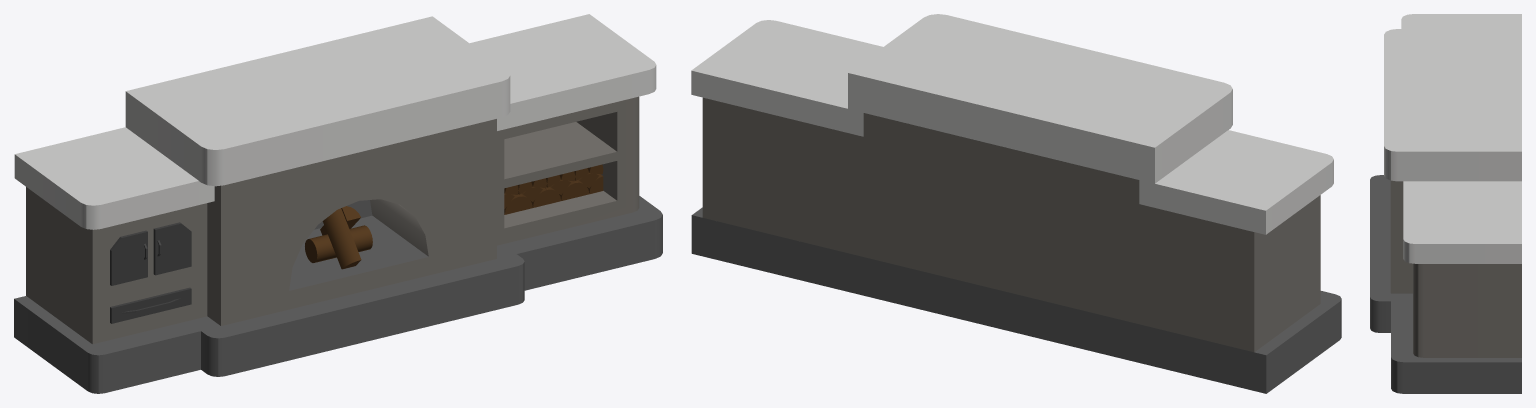
The model's file is StoveLeft.fbx.
The picture shows the model from 3 angles, left to right: view 1: azimuth 30°, elevation 25°; view 2: azimuth 150°, elevation 25°; view 3: azimuth 270°, elevation 25°; orthographic projection. The views are drawn at different scales.
Parts seen in each view (by area): view 1: Stove_02_no_image:pCube4, Stove_02_no_image:Fireplace, Stove_02_no_image:Base, Stove_02_no_image:Body, Stove_02_no_image:Storage, Stove_02_no_image:CabinetTop, Stove_02_no_image:StorageTop, Stove_02_no_image:RCabinet, Stove_02_no_image:LCabinet, Stove_02_no_image:BCabinet, Stove_02_no_image:pCylinder1, Stove_02_no_image:pCylinder2; view 2: Stove_02_no_image:Fireplace, Stove_02_no_image:pCube4, Stove_02_no_image:Base, Stove_02_no_image:Body, Stove_02_no_image:Storage, Stove_02_no_image:StorageTop, Stove_02_no_image:CabinetTop; view 3: Stove_02_no_image:pCube4, Stove_02_no_image:Storage, Stove_02_no_image:StorageTop, Stove_02_no_image:Base, Stove_02_no_image:Fireplace, Stove_02_no_image:CabinetTop.
Boxes of the visible parts, bbox=[...] form: Stove_02_no_image:pCube4: bbox=[125, 16, 510, 186]; Stove_02_no_image:Fireplace: bbox=[207, 119, 496, 325]; Stove_02_no_image:Base: bbox=[14, 196, 662, 393]; Stove_02_no_image:Body: bbox=[26, 187, 207, 344]; Stove_02_no_image:Storage: bbox=[497, 96, 639, 245]; Stove_02_no_image:CabinetTop: bbox=[14, 127, 214, 229]; Stove_02_no_image:StorageTop: bbox=[470, 14, 656, 130]; Stove_02_no_image:RCabinet: bbox=[153, 222, 191, 275]; Stove_02_no_image:LCabinet: bbox=[110, 230, 147, 285]; Stove_02_no_image:BCabinet: bbox=[110, 287, 191, 323]; Stove_02_no_image:pCylinder1: bbox=[322, 208, 361, 269]; Stove_02_no_image:pCylinder2: bbox=[305, 225, 372, 262]; Stove_02_no_image:Fireplace: bbox=[863, 113, 1139, 323]; Stove_02_no_image:pCube4: bbox=[848, 14, 1232, 183]; Stove_02_no_image:Base: bbox=[691, 207, 1341, 393]; Stove_02_no_image:Body: bbox=[1139, 195, 1320, 352]; Stove_02_no_image:Storage: bbox=[702, 97, 863, 256]; Stove_02_no_image:StorageTop: bbox=[691, 20, 882, 136]; Stove_02_no_image:CabinetTop: bbox=[1139, 130, 1333, 234]; Stove_02_no_image:pCube4: bbox=[1384, 29, 1521, 181]; Stove_02_no_image:Storage: bbox=[1413, 263, 1521, 357]; Stove_02_no_image:StorageTop: bbox=[1403, 181, 1521, 263]; Stove_02_no_image:Base: bbox=[1370, 175, 1521, 393]; Stove_02_no_image:Fireplace: bbox=[1390, 180, 1412, 293]; Stove_02_no_image:CabinetTop: bbox=[1401, 14, 1521, 28].
Bounding box in the file's own units: 3.39 × 1.23 × 0.9438.
